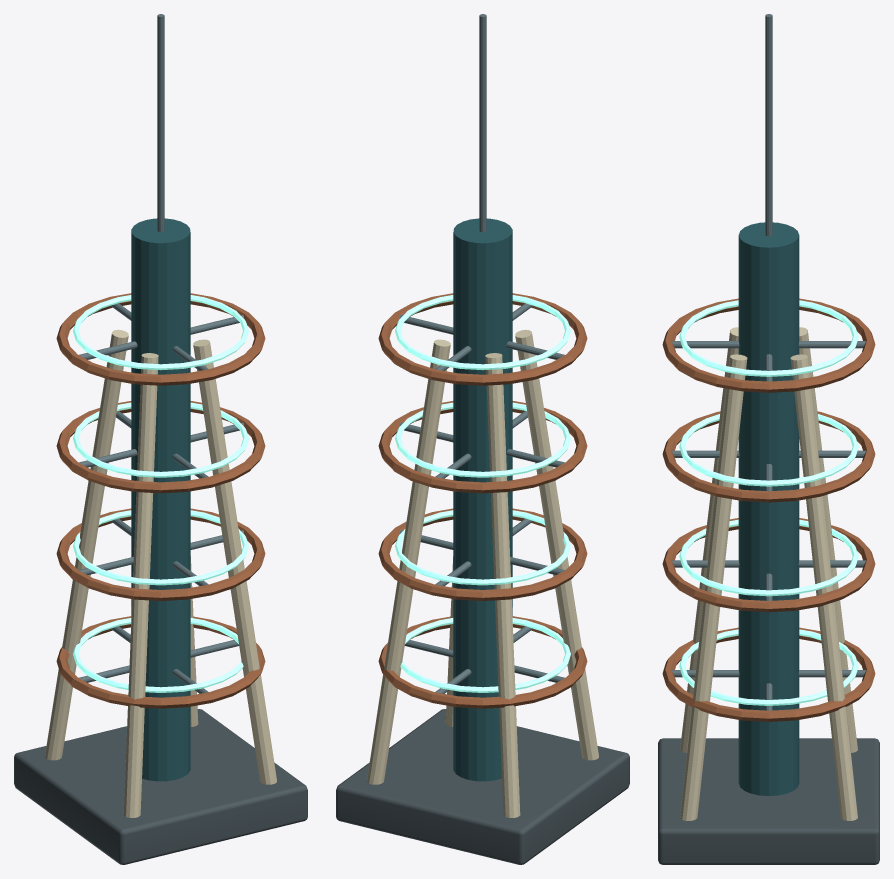
Rendered from SM_RainStormTower.glb.
3 views of the same model, side by side, from view 1: azimuth 30°, elevation 25°; view 2: azimuth 150°, elevation 25°; view 3: azimuth 270°, elevation 25° (orthographic).
Visible parts, largest first — view 1: SM_RainStormTower; view 2: SM_RainStormTower; view 3: SM_RainStormTower.
Part boxes in pixels (<box>): SM_RainStormTower: <box>14,14,307,864</box>; SM_RainStormTower: <box>336,14,629,864</box>; SM_RainStormTower: <box>658,14,879,864</box>.
Bounding box in the file's own units: 5.5 × 22 × 5.5.
